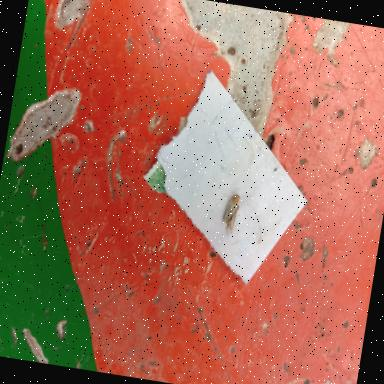pbw: (220, 192, 241, 236)
